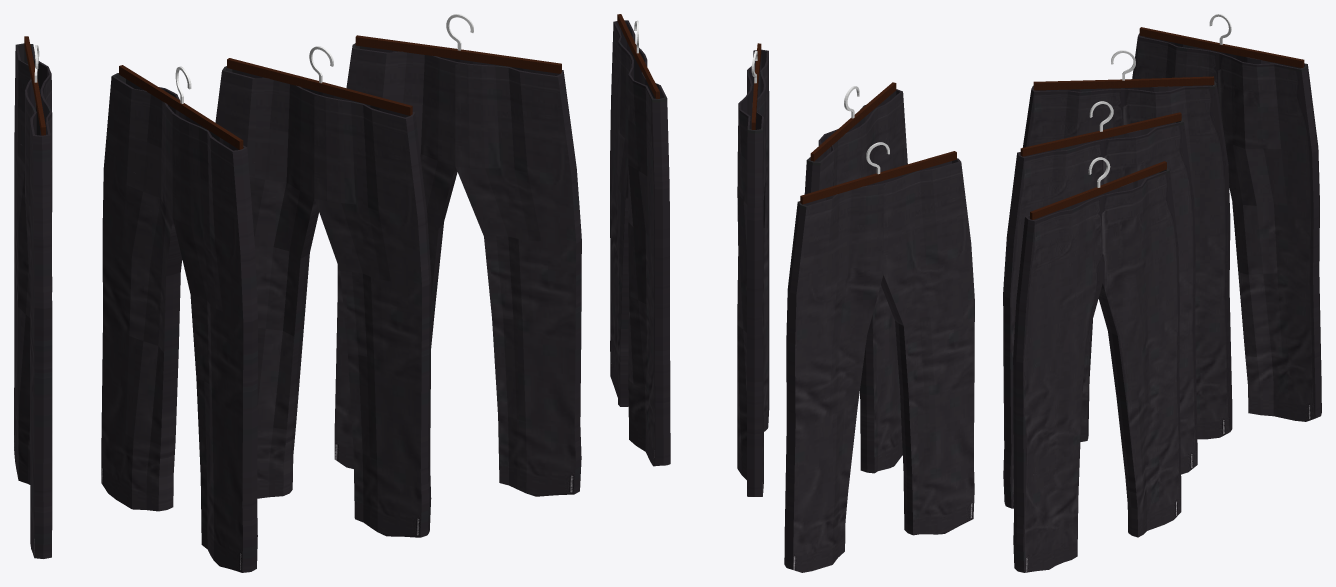
File: zeldris1.glb
The picture shows the model from 3 angles, left to right: view 1: azimuth 30°, elevation 25°; view 2: azimuth 150°, elevation 25°; view 3: azimuth 270°, elevation 25°; orthographic projection. The views are drawn at different scales.
Parts seen in each view (by area): view 1: Plane.305; view 2: Plane.305; view 3: Plane.305.
Boxes of the visible parts, bbox=[...] form: Plane.305: bbox=[14, 14, 581, 572]; Plane.305: bbox=[610, 14, 974, 572]; Plane.305: bbox=[1003, 14, 1321, 572].
Bounding box in the file's own units: 0.5108 × 0.4706 × 0.3483.
3 materials, 3 textured.
